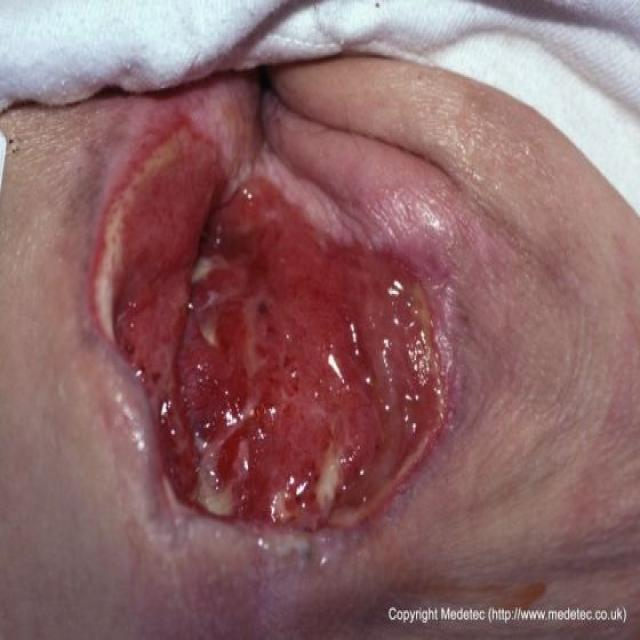stage-3: (92, 127, 446, 527)
